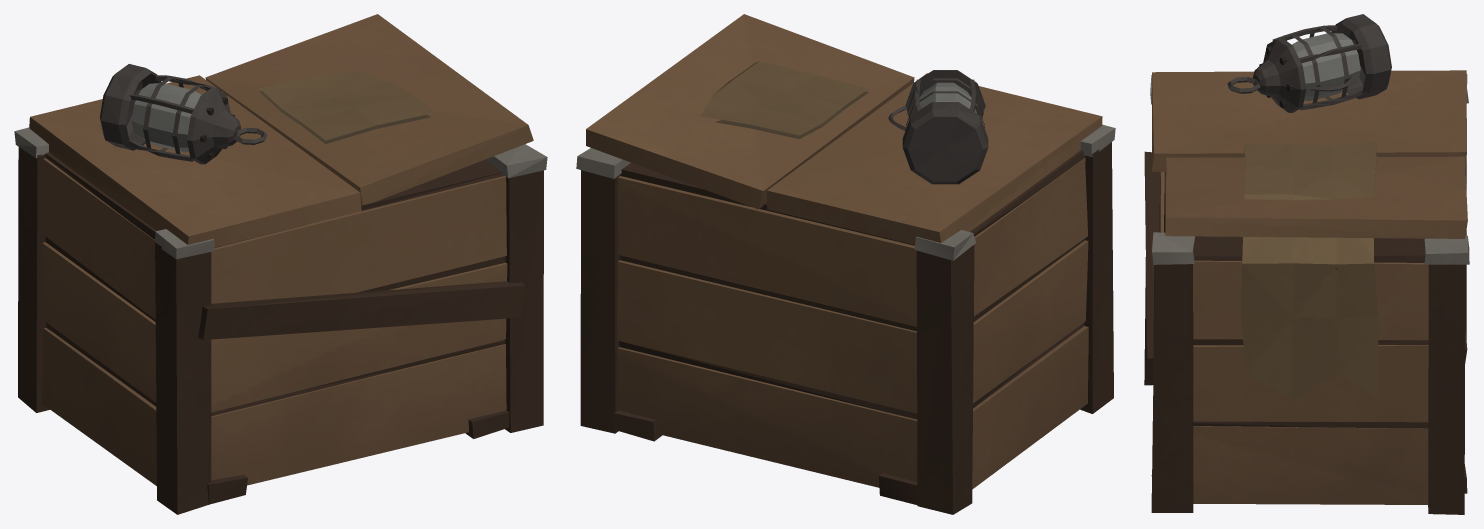
Rendered from Firelost_Cache.fbx.
3 renders of one model, left to right at view 1: azimuth 30°, elevation 25°; view 2: azimuth 150°, elevation 25°; view 3: azimuth 270°, elevation 25°, orthographic. The views are drawn at different scales.
Parts seen in each view (by area): view 1: Firelost_Cache; view 2: Firelost_Cache; view 3: Firelost_Cache.
Boxes of the visible parts, bbox=[...] form: Firelost_Cache: bbox=[14, 14, 547, 514]; Firelost_Cache: bbox=[576, 14, 1115, 514]; Firelost_Cache: bbox=[1144, 14, 1469, 514].
Size of the model in its own units: 0.6516 by 0.5875 by 0.4992.
